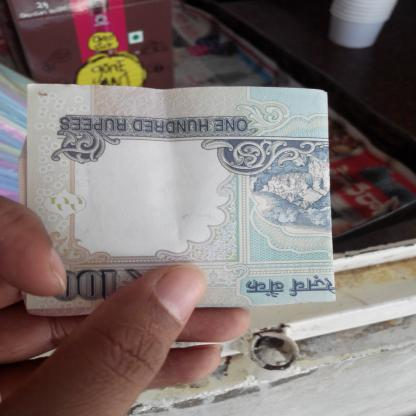Old100Back: (17, 83, 337, 317)
